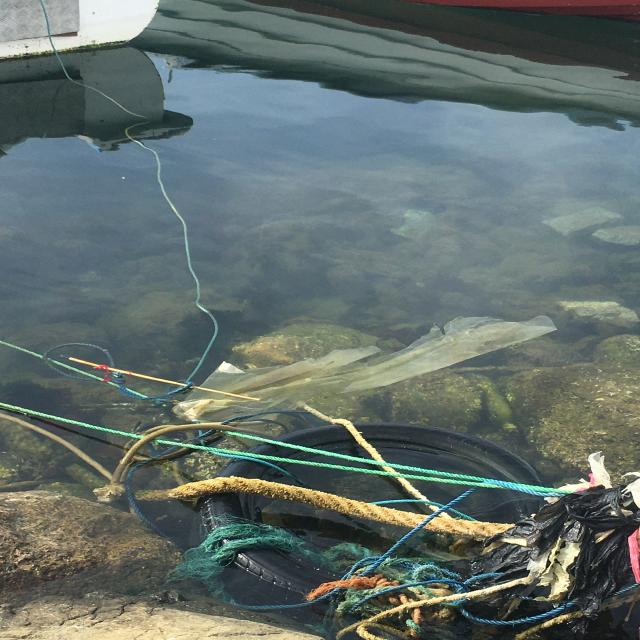Plastic: (186, 305, 564, 407)
